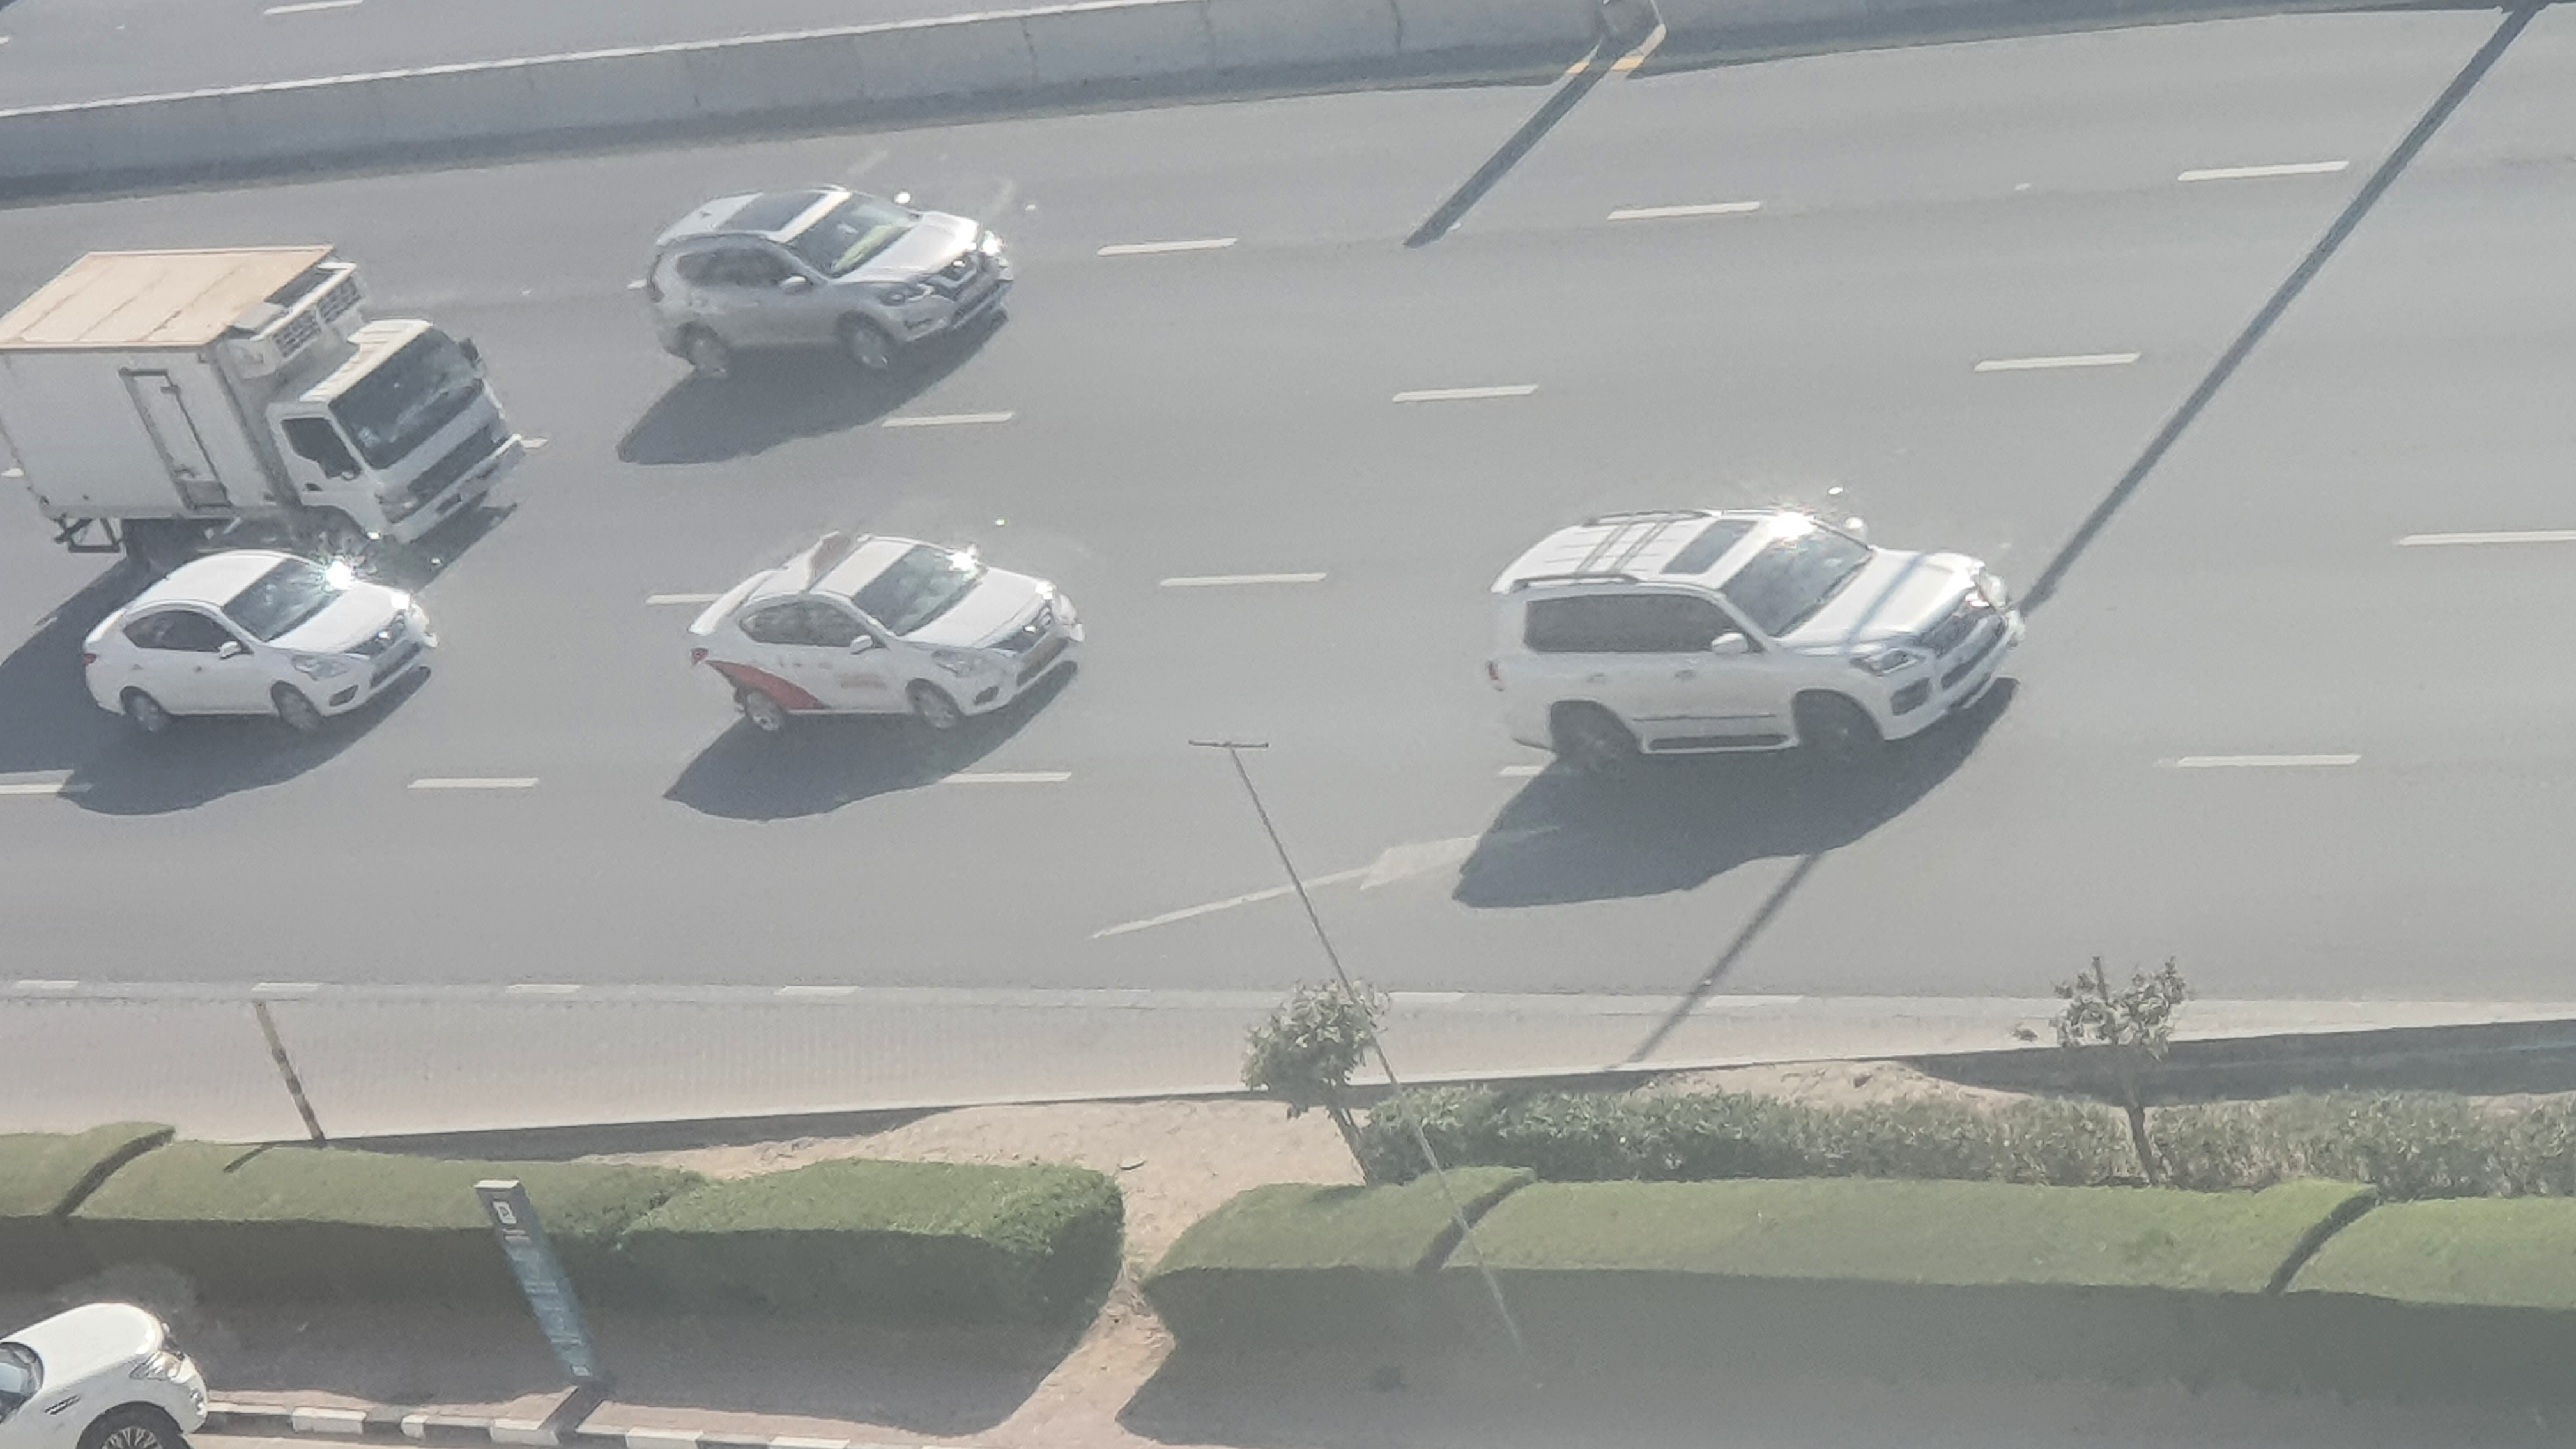NotSunroof: (676, 540, 1092, 738), (80, 556, 433, 731)
Sunroof: (1470, 511, 2029, 770), (632, 189, 1010, 380)
